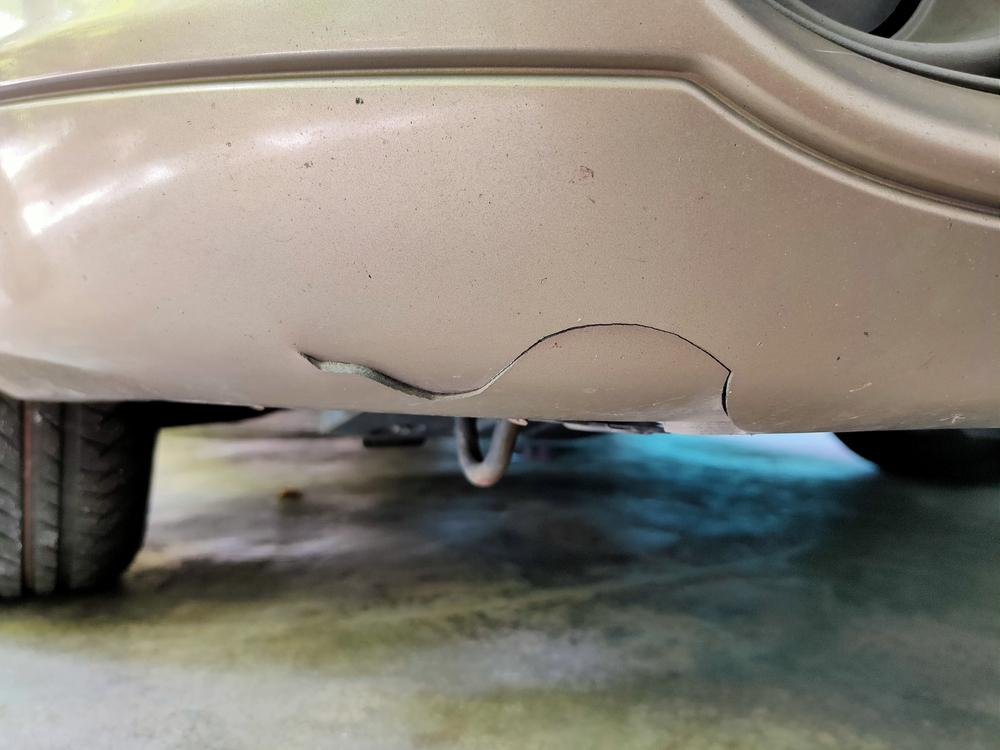crack: (296, 323, 732, 421)
